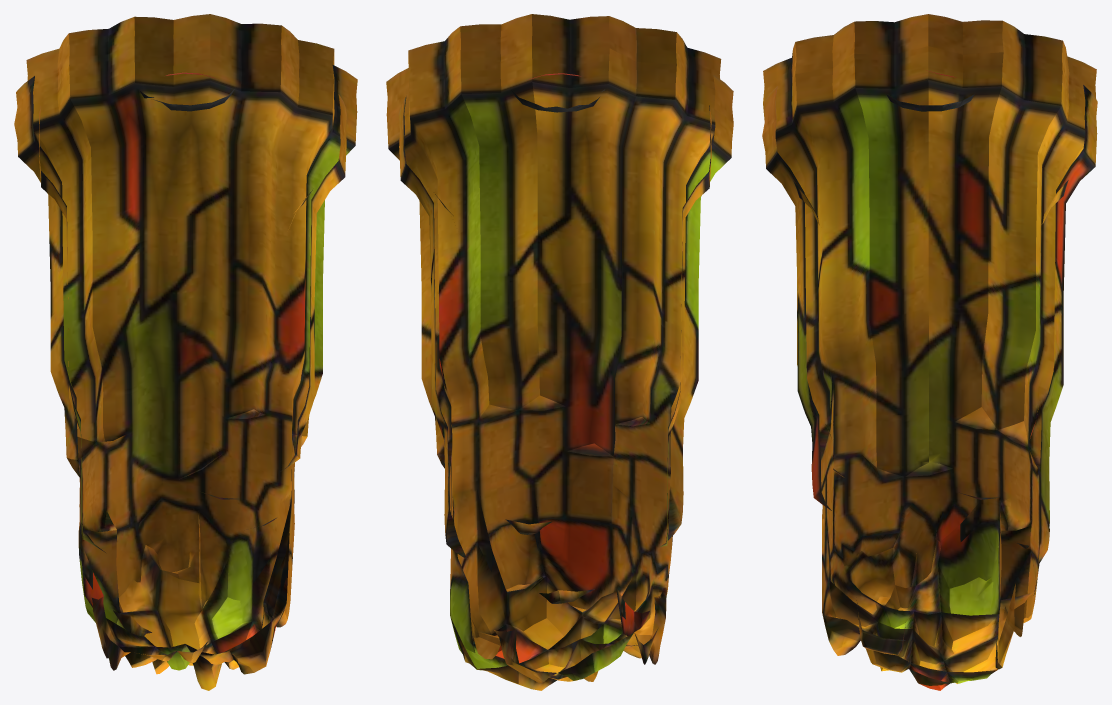
The picture shows the model from 3 angles, left to right: view 1: azimuth 30°, elevation 25°; view 2: azimuth 150°, elevation 25°; view 3: azimuth 270°, elevation 25°; orthographic projection.
Parts seen in each view (by area): view 1: pg_zpm_v2.001_0; view 2: pg_zpm_v2.001_0; view 3: pg_zpm_v2.001_0.
Part boxes in pixels (x1,y1,x2,y2): pg_zpm_v2.001_0: [14, 14, 357, 690]; pg_zpm_v2.001_0: [386, 14, 733, 690]; pg_zpm_v2.001_0: [762, 14, 1097, 690].
Bounding box in the file's own units: 0.5501 × 1.05 × 0.5389.
1 material, 1 textured.
